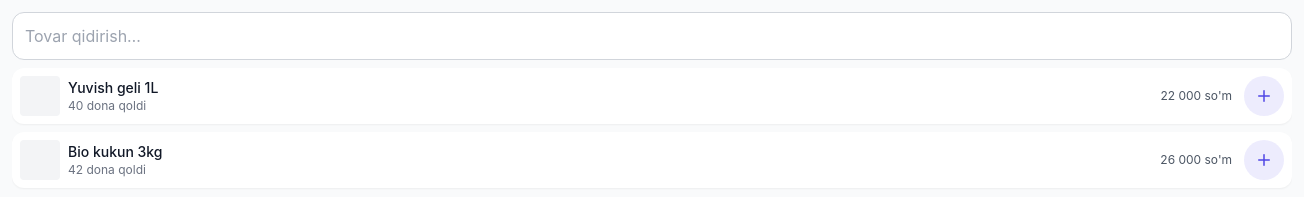
SaleProductList (UX M4) › artikul (SKU) bo‘yicha ham to‘g‘ri filtrlaydi
Type "  GEL-1L  " into the field with placeholder "Tovar qidirish…" at (652, 36), box x1=12 y1=12 x2=1292 y2=60
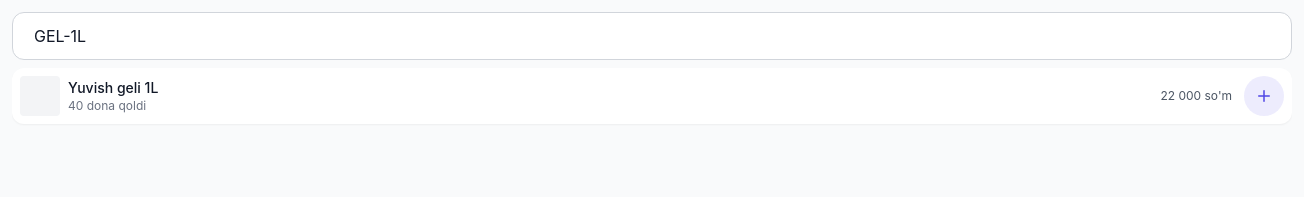
Expected: the text "Yuvish geli 1L" is shown, x1=68 y1=78 x2=158 y2=98
Expected: the button "Bio kukun 3kg" is gone
